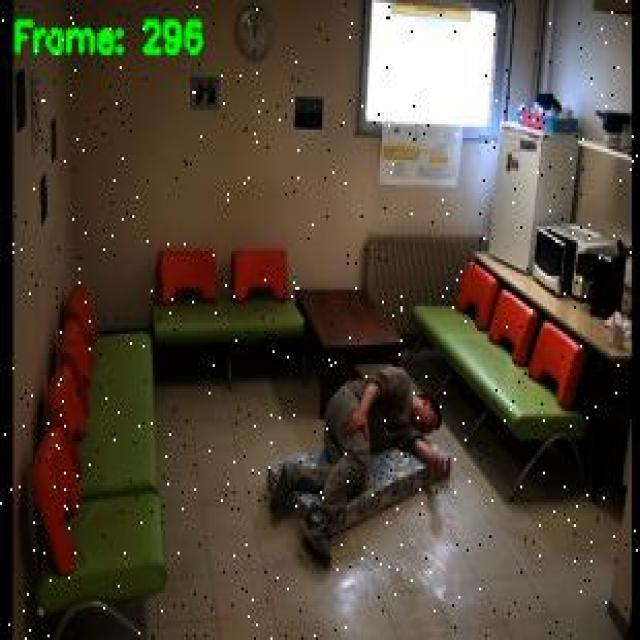fall: (258, 362, 450, 570)
